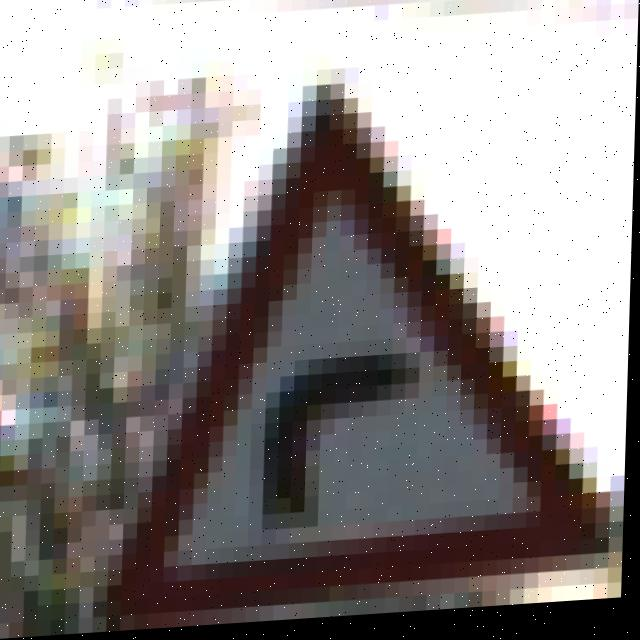right_turn: (86, 101, 608, 594)
